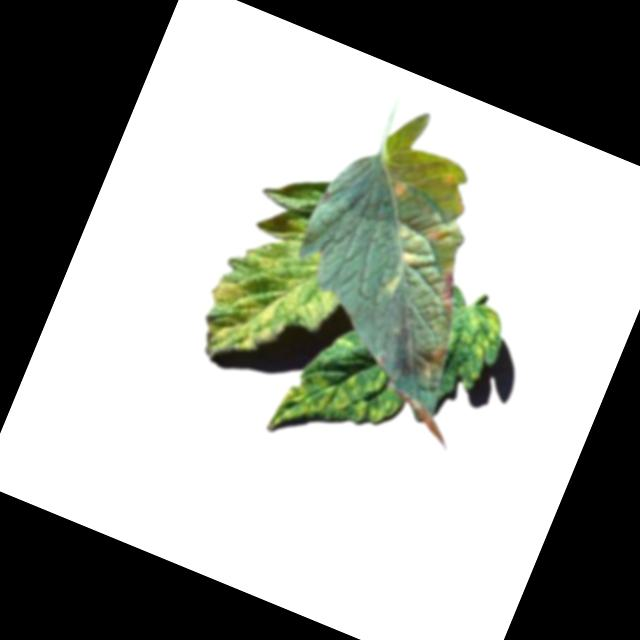Leaf_Mold: (188, 194, 362, 389), (265, 334, 411, 474), (369, 204, 472, 315), (447, 302, 510, 388), (410, 335, 452, 386)
